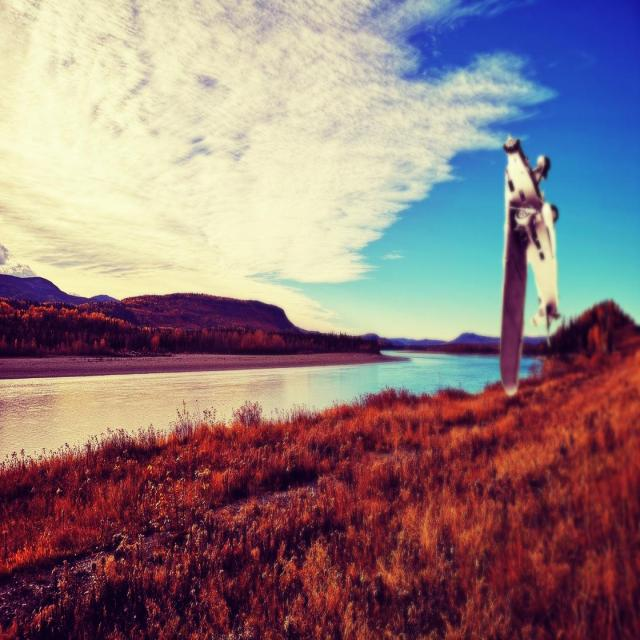airplane: (498, 135, 560, 397)
